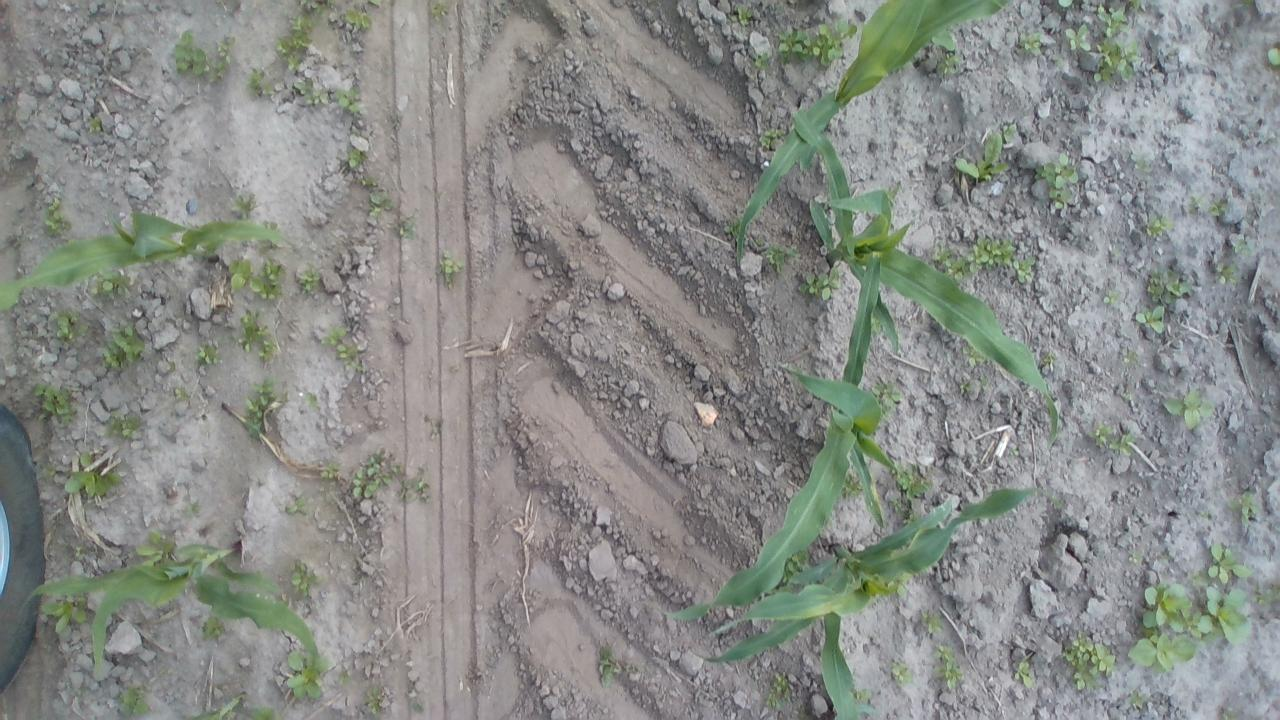Maize: (788, 103, 1058, 450), (654, 255, 900, 622), (735, 0, 1012, 264), (700, 488, 1064, 664), (18, 542, 324, 683), (0, 208, 296, 310), (818, 611, 878, 720), (173, 692, 243, 720)
Weeds: (1128, 582, 1248, 672), (776, 18, 859, 68), (933, 236, 1015, 282), (1061, 632, 1117, 690), (956, 131, 1010, 182), (243, 378, 286, 440), (1032, 154, 1079, 210), (275, 16, 317, 72), (764, 550, 817, 594), (1094, 36, 1142, 84), (284, 652, 328, 700), (238, 308, 278, 360), (101, 324, 145, 371), (598, 644, 646, 687), (1161, 390, 1213, 428), (41, 593, 88, 635), (34, 380, 76, 426), (352, 452, 392, 499), (1206, 544, 1252, 584), (173, 30, 210, 77), (63, 471, 124, 499), (1146, 266, 1190, 304), (796, 266, 842, 302), (51, 306, 90, 346), (250, 260, 285, 302), (134, 530, 174, 566), (894, 463, 932, 500), (933, 643, 962, 691), (89, 268, 131, 300), (286, 560, 323, 596), (870, 380, 900, 424), (208, 37, 235, 84), (115, 684, 152, 718), (763, 243, 801, 276), (42, 197, 72, 237), (870, 572, 912, 600), (1096, 3, 1131, 36), (1227, 490, 1259, 524), (294, 76, 329, 106), (764, 672, 791, 710), (105, 412, 140, 440), (437, 250, 464, 284), (888, 496, 917, 526), (1134, 305, 1164, 333), (228, 259, 252, 292), (1065, 24, 1093, 52), (836, 471, 864, 499), (363, 192, 393, 218), (297, 263, 322, 294), (398, 481, 430, 504), (334, 85, 361, 112), (1016, 30, 1043, 57), (243, 705, 287, 720), (920, 608, 945, 634), (1108, 433, 1136, 456), (344, 8, 373, 30), (1145, 216, 1174, 238), (194, 344, 224, 365), (1091, 418, 1113, 446), (1251, 584, 1280, 605), (936, 52, 960, 77), (1012, 257, 1035, 283), (758, 128, 786, 149), (963, 342, 987, 366), (298, 0, 335, 15), (891, 662, 914, 686), (931, 29, 956, 51), (320, 326, 347, 346), (1014, 660, 1033, 688), (1216, 262, 1240, 284), (200, 618, 224, 640), (234, 194, 254, 220), (364, 685, 381, 715), (428, 0, 452, 21), (732, 4, 754, 26), (343, 147, 367, 167), (248, 68, 264, 98), (724, 216, 742, 242), (751, 48, 771, 70), (1132, 154, 1152, 174), (397, 218, 415, 240), (1187, 570, 1211, 586), (1206, 199, 1228, 216), (285, 498, 308, 514), (335, 343, 358, 359), (1102, 288, 1122, 306), (1127, 692, 1147, 710), (882, 182, 902, 200), (851, 686, 872, 702), (320, 462, 340, 478), (256, 239, 278, 253), (1233, 238, 1251, 255), (1186, 195, 1202, 214), (1120, 348, 1138, 364), (87, 115, 102, 134), (868, 314, 882, 334), (78, 452, 95, 468), (1003, 124, 1017, 142), (304, 392, 318, 409), (1040, 350, 1056, 364), (1268, 48, 1280, 66), (173, 386, 188, 400), (344, 360, 364, 370), (10, 233, 24, 247), (184, 504, 200, 516), (1127, 552, 1143, 564), (41, 466, 57, 478), (959, 380, 972, 394), (259, 220, 277, 230), (338, 670, 350, 684), (1128, 0, 1142, 12), (979, 374, 989, 390), (1222, 710, 1238, 720), (1122, 388, 1135, 400), (262, 83, 274, 95), (1054, 55, 1064, 67), (1236, 0, 1255, 6), (360, 178, 376, 185), (1057, 0, 1073, 7), (1008, 446, 1019, 456), (1159, 553, 1171, 562), (1200, 510, 1210, 520), (167, 360, 176, 370), (413, 704, 423, 713), (1110, 247, 1120, 256), (366, 0, 380, 6), (755, 236, 764, 245), (352, 127, 362, 135), (826, 518, 836, 526), (75, 546, 81, 558), (76, 688, 84, 697), (391, 466, 399, 474)
